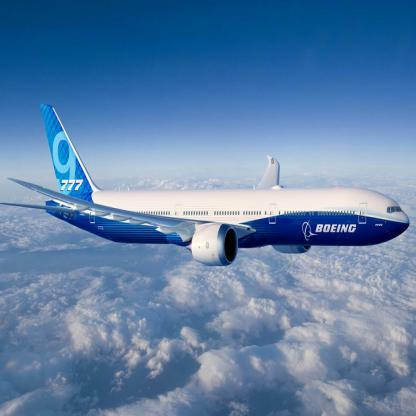CIV_Plane: (6, 102, 412, 271)
